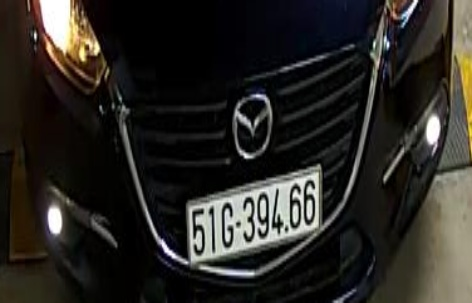plate: (181, 173, 327, 264)
